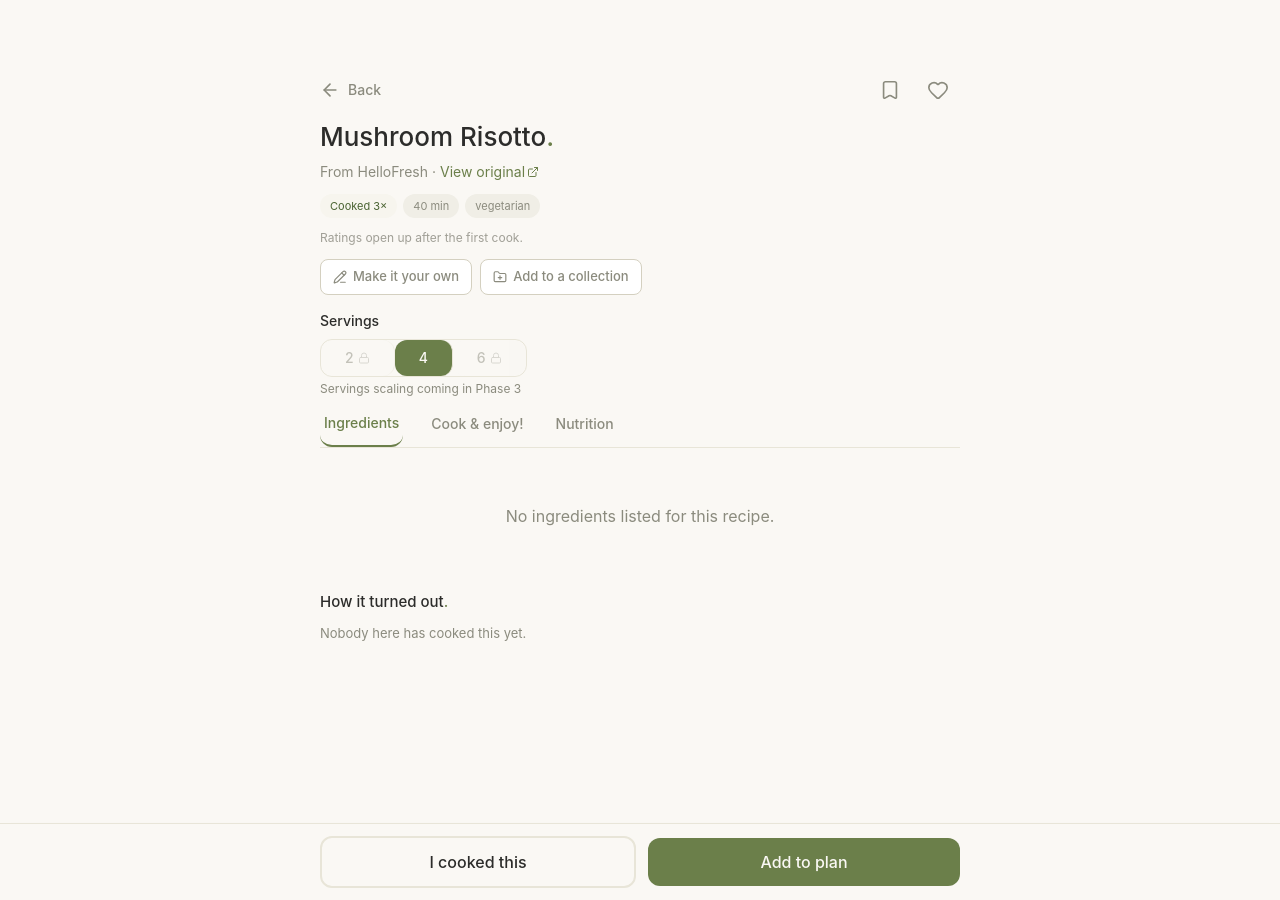
Test: RecipeDetail › "Add to plan" sheet › opens AddToPlanSheet when "Add to plan" is clicked
This screenshot has width=1280, height=900.
Click the button "Add to plan" at (804, 862), box [648,838,960,886]
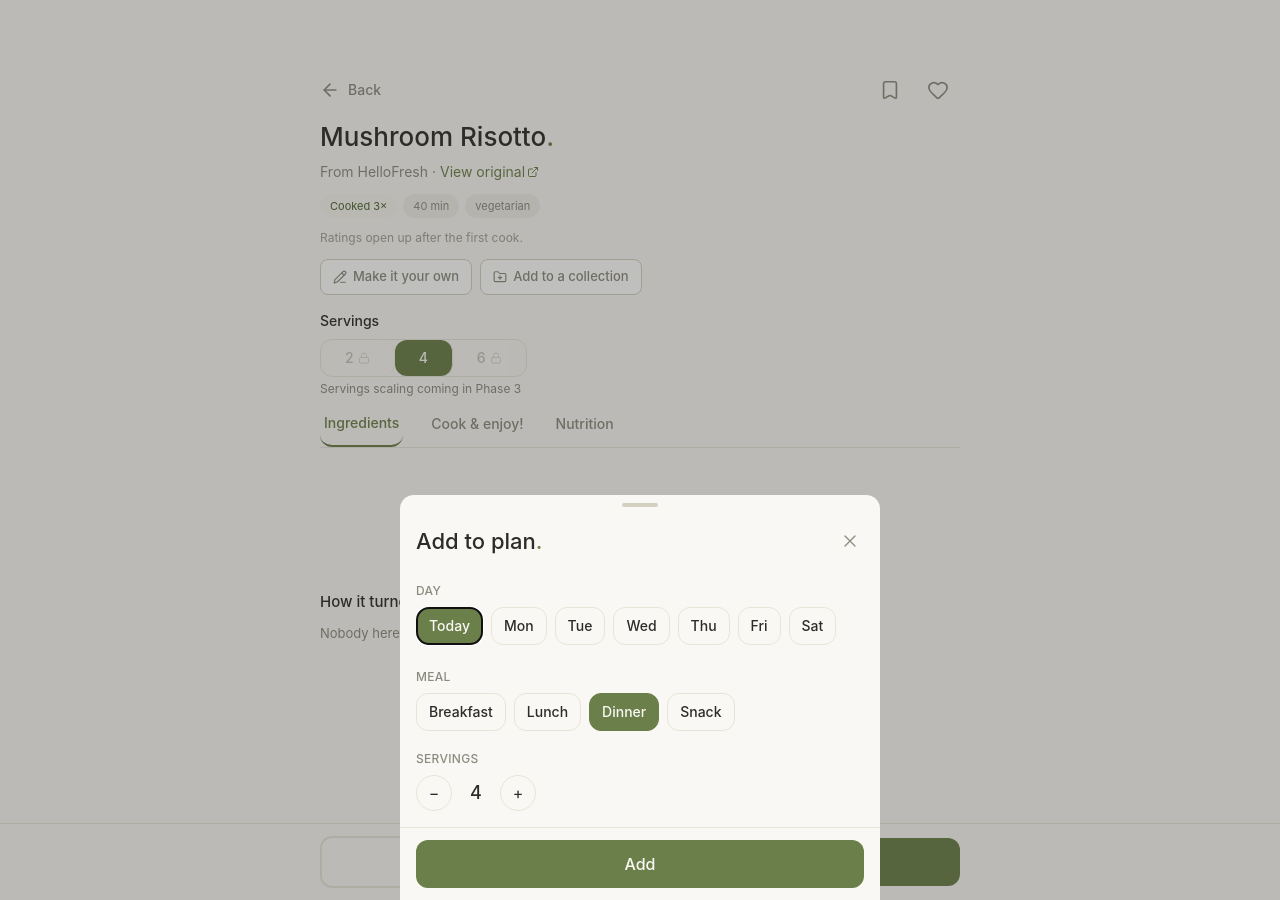
Now the dialog is shown, box [400,495,880,899]
